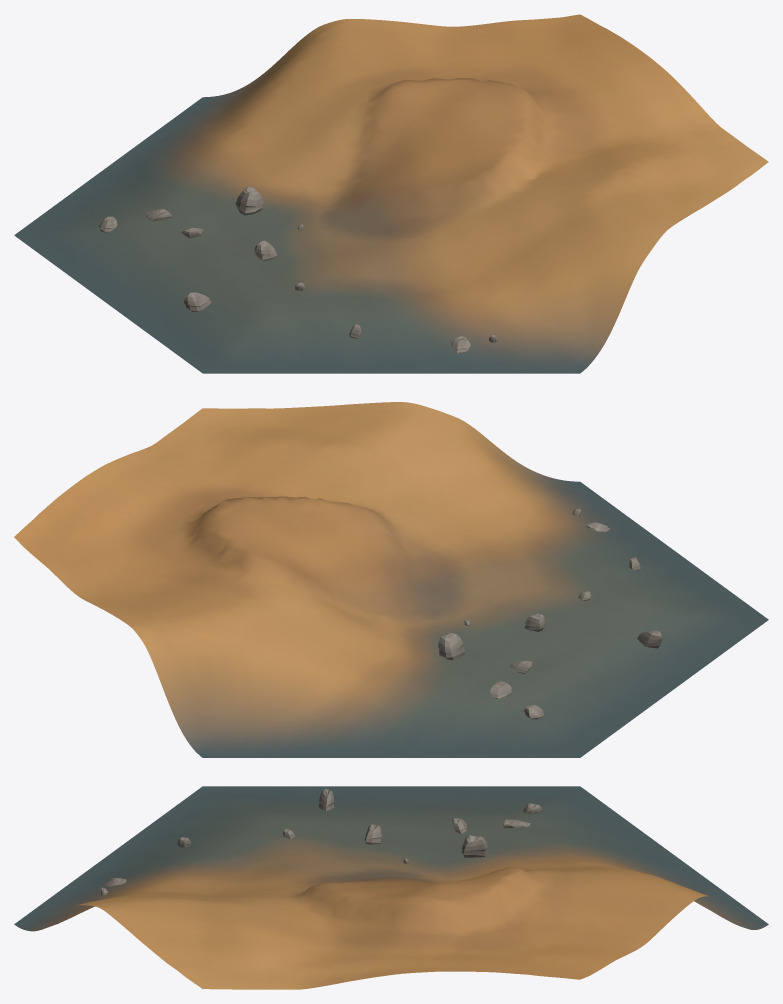
Rendered from costa_-05_+02.glb.
3 renders of one model, top to bottom at view 1: azimuth 30°, elevation 25°; view 2: azimuth 150°, elevation 25°; view 3: azimuth 270°, elevation 25°, orthographic.
Parts seen in each view (by area): view 1: terrain, Formações costeiras; view 2: terrain, Formações costeiras; view 3: terrain, Formações costeiras.
Boxes of the visible parts, box(x1,y1,x2,y2) form: terrain: box(14, 14, 768, 373); Formações costeiras: box(99, 186, 497, 353); terrain: box(14, 402, 768, 757); Formações costeiras: box(438, 508, 662, 719); terrain: box(14, 786, 768, 989); Formações costeiras: box(101, 788, 541, 895).
Size of the model in its own units: 4330 by 694 by 5000.
1 material, 1 textured.
